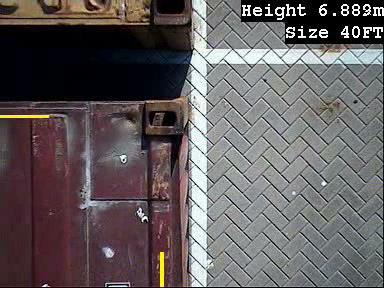groundmarker_2: (197, 6, 231, 56), (199, 181, 233, 231)
